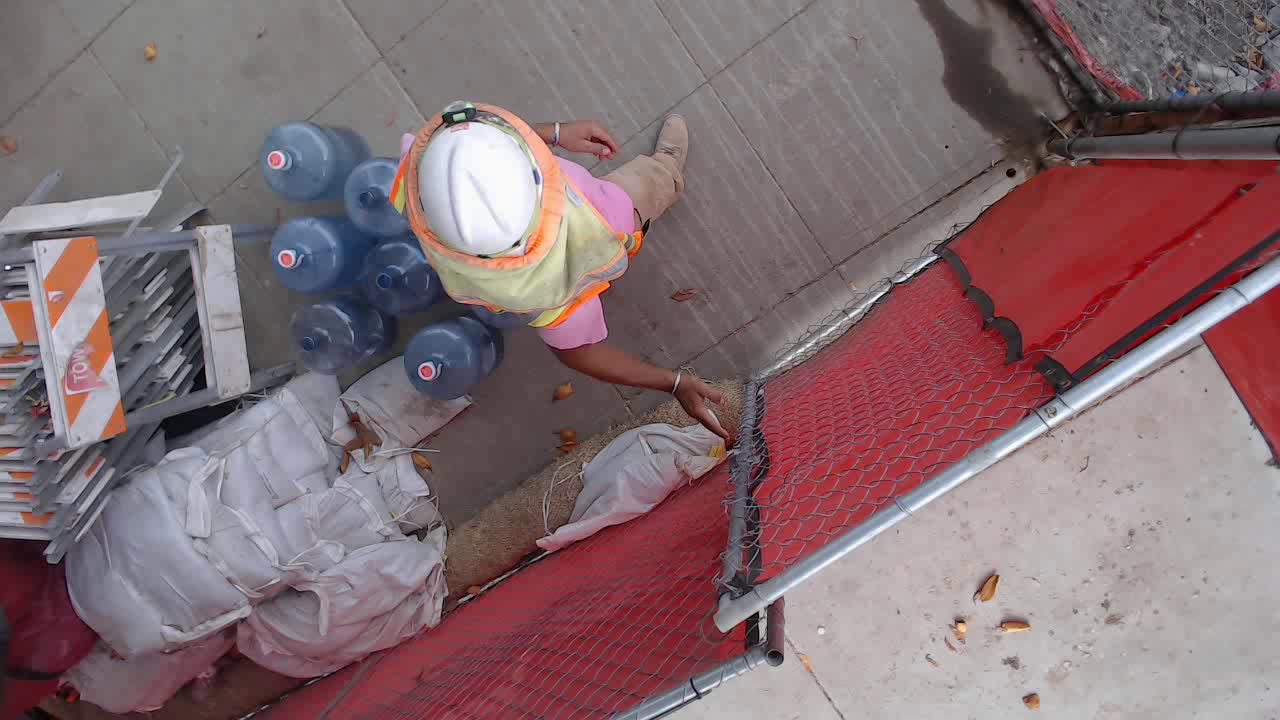hardhat: (405, 103, 566, 267)
safetyvest: (385, 154, 644, 342)
